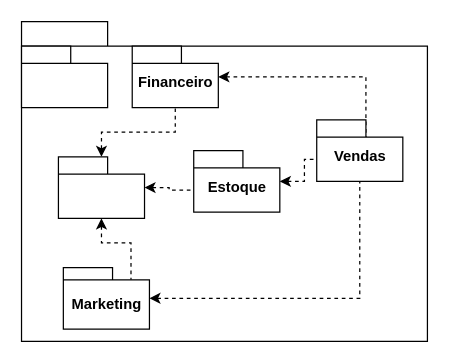
This 449x363 diagram has some shape labels left out. The shapes that lost their labels are listed below. From the top down, each one's box as (x1, y1, x2, y2) in pixels, then its label:
(20, 45, 108, 108): Café
(57, 156, 145, 218): RH
